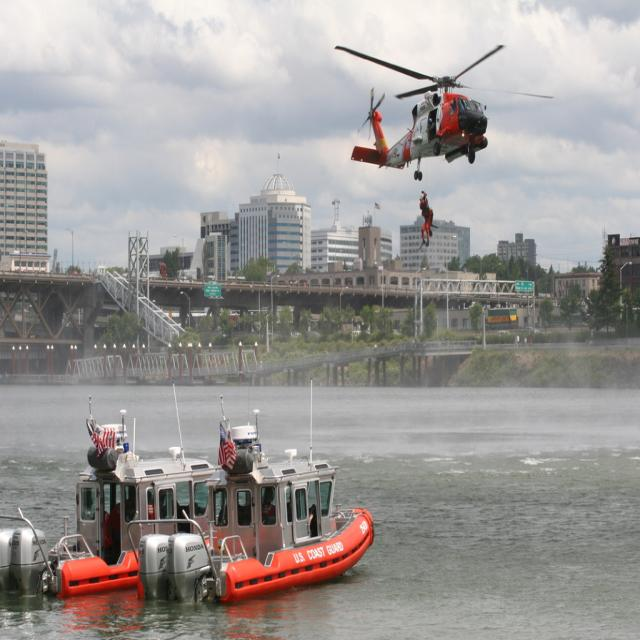Boat: (0, 381, 225, 599)
